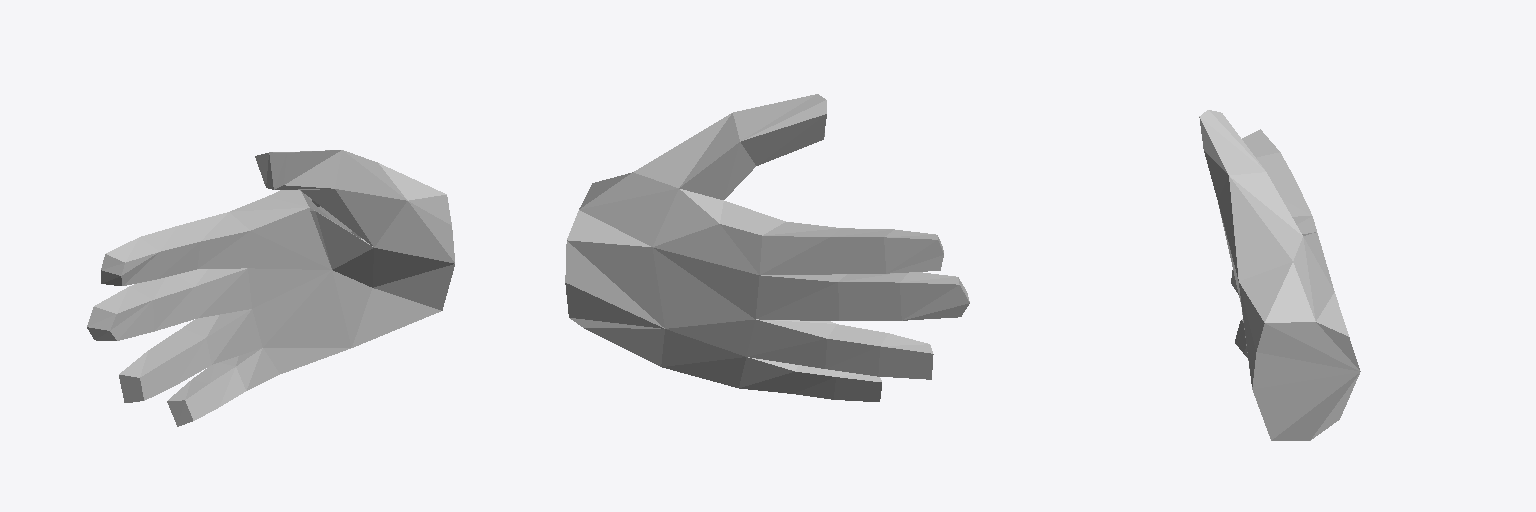
Rendered from skyfall.obj.
The picture shows the model from 3 angles: view 1: azimuth 30°, elevation 25°; view 2: azimuth 150°, elevation 25°; view 3: azimuth 270°, elevation 25°; orthographic projection.
Parts seen in each view (by area): view 1: hand; view 2: hand; view 3: hand.
Boxes of the visible parts, <box> form: hand: <box>87,150,454,426</box>; hand: <box>565,94,969,401</box>; hand: <box>1199,110,1360,440</box>.
Size of the model in its own units: 65.87 by 45.93 by 24.8.